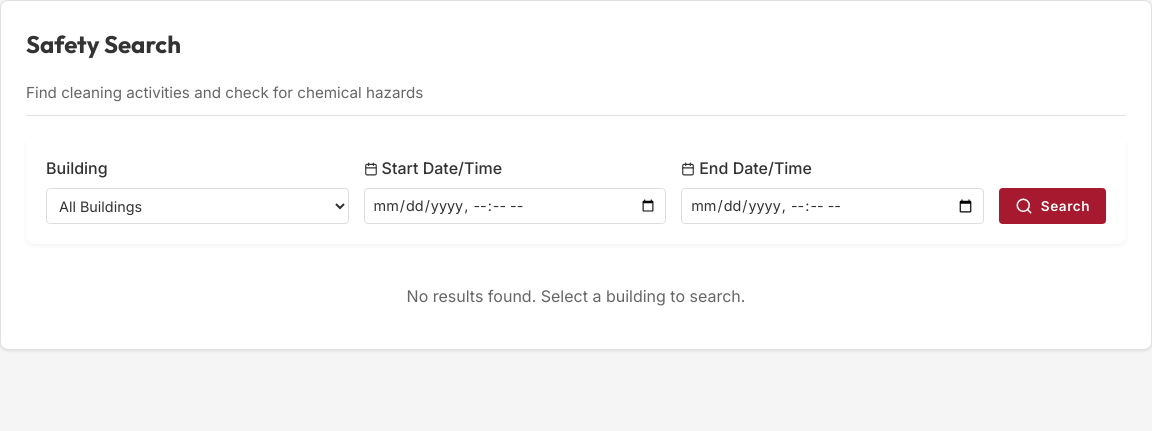
Test: SafetySearch Component › should display error when search fails
Select "Block A" in the dropdown. click: (197, 206)
box: [46, 188, 349, 224]
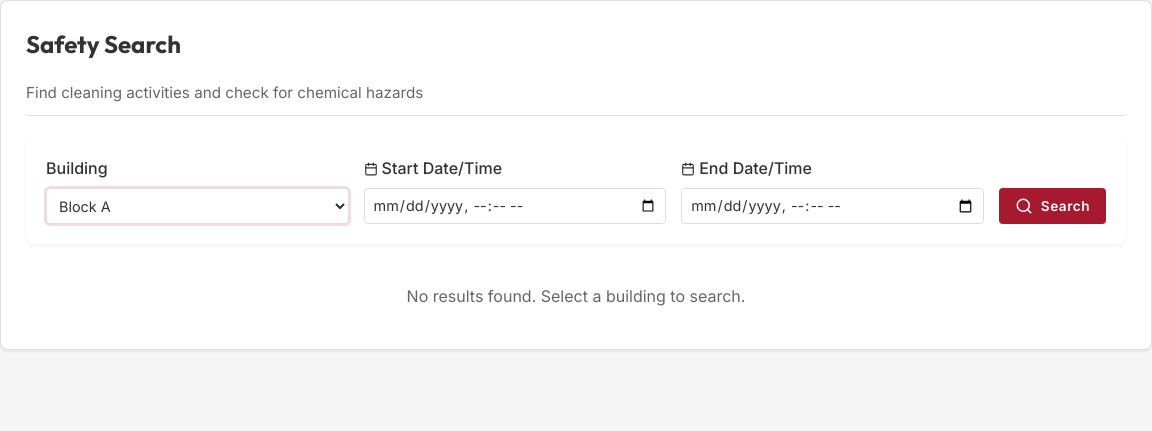
Click the button "Search". click: click(1052, 206)
box: [999, 188, 1106, 224]
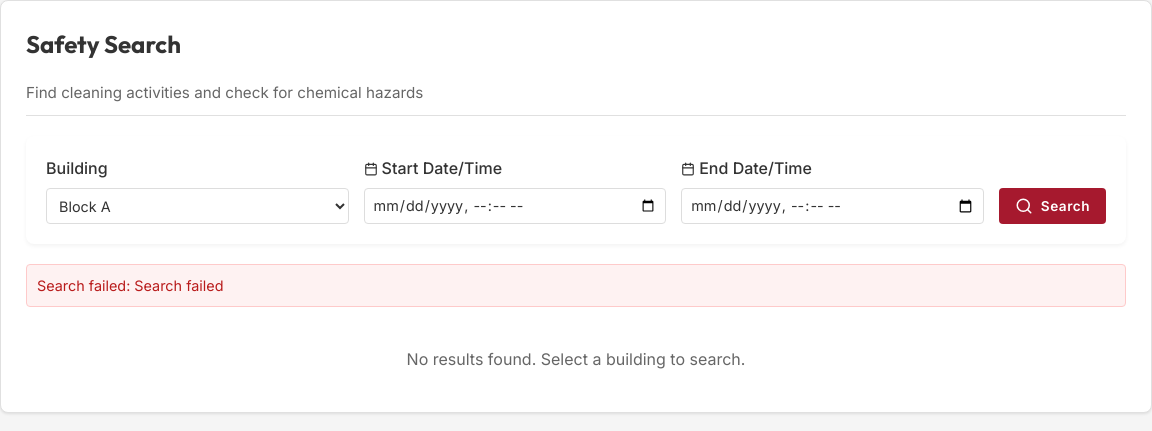
expect the text "Search failed: Search failed" is shown: met, box [26, 264, 1126, 307]
